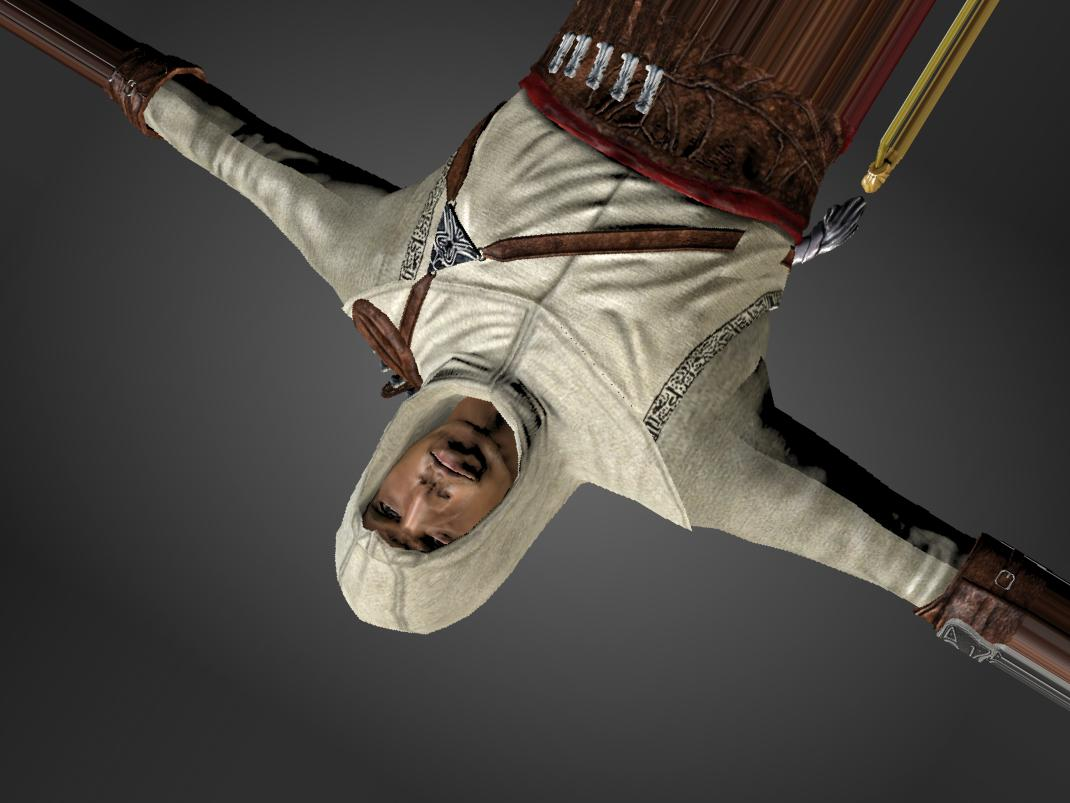clip: (725, 214, 808, 284)
